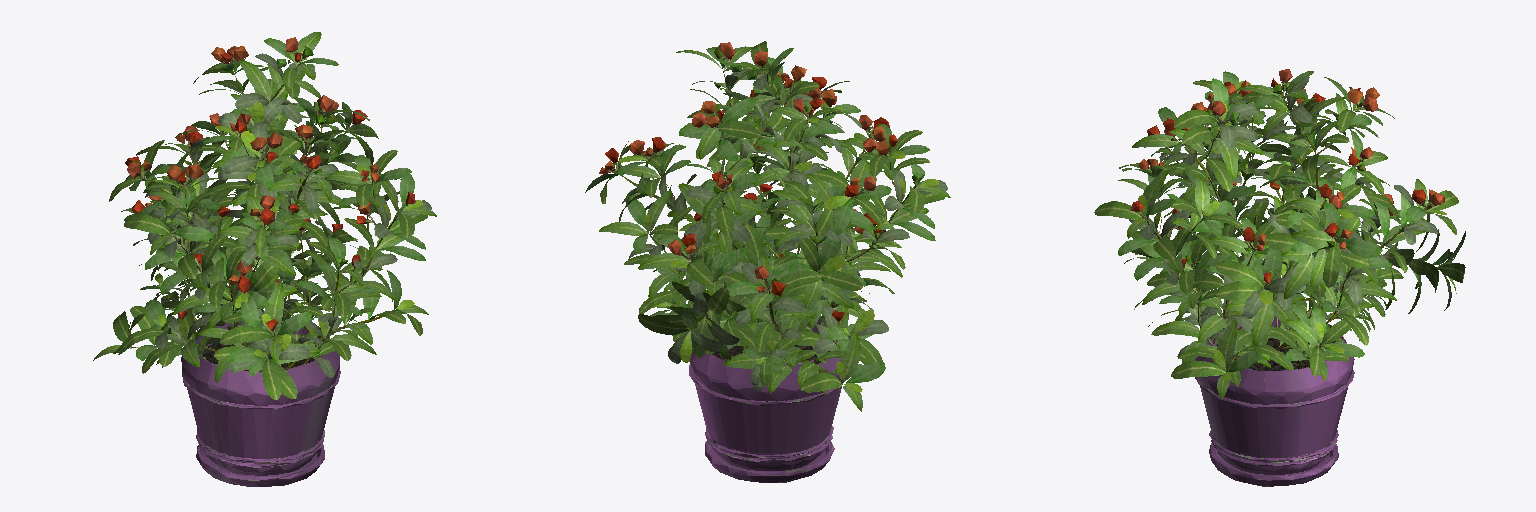
3 renders of one model, left to right at view 1: azimuth 30°, elevation 25°; view 2: azimuth 150°, elevation 25°; view 3: azimuth 270°, elevation 25°, orthographic.
Parts seen in each view (by area): view 1: solid_005, solid_006, solid_001, solid_004, solid_008, solid_007, solid_009, solid_011, solid_013, solid_014, solid_003; view 2: solid_005, solid_006, solid_001, solid_004, solid_008, solid_007, solid_011, solid_009, solid_013, solid_014, solid_003; view 3: solid_005, solid_006, solid_001, solid_004, solid_008, solid_007, solid_009, solid_011, solid_014, solid_013, solid_002.
Part boxes in pixels (x1,y1,x2,y2): solid_005: (109, 63, 427, 399); solid_006: (93, 32, 436, 382); solid_001: (181, 317, 340, 486); solid_004: (113, 38, 425, 375); solid_008: (133, 53, 431, 377); solid_007: (106, 52, 422, 365); solid_009: (125, 52, 415, 330); solid_011: (127, 37, 379, 275); solid_013: (143, 46, 378, 284); solid_014: (132, 64, 397, 368); solid_003: (137, 51, 407, 337); solid_005: (600, 41, 944, 394); solid_006: (599, 46, 950, 411); solid_001: (689, 319, 841, 482); solid_004: (585, 47, 935, 383); solid_008: (626, 69, 947, 391); solid_007: (619, 60, 938, 391); solid_011: (599, 42, 876, 279); solid_009: (605, 50, 897, 321); solid_013: (605, 65, 889, 292); solid_014: (622, 71, 915, 372); solid_003: (609, 54, 919, 326); solid_005: (1094, 80, 1465, 386); solid_006: (1118, 85, 1456, 398); solid_001: (1194, 318, 1354, 486); solid_004: (1118, 71, 1465, 371); solid_008: (1129, 77, 1452, 357); solid_007: (1135, 81, 1456, 379); solid_009: (1130, 78, 1425, 283); solid_011: (1139, 69, 1444, 251); solid_014: (1145, 100, 1436, 371); solid_013: (1147, 80, 1438, 244); solid_002: (1216, 338, 1326, 370).
Bounding box in the file's own units: 1.04 × 1.42 × 1.16.
1 materials, 1 textured.